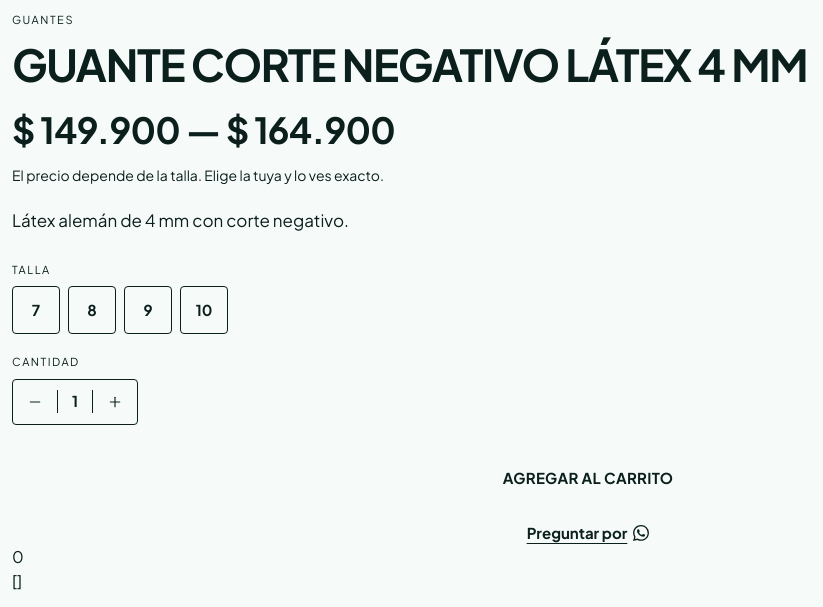
Test: ProductPurchase › cambiar de talla cambia el precio
Click the button "7". click: (36,310)
box: [12,286,60,334]
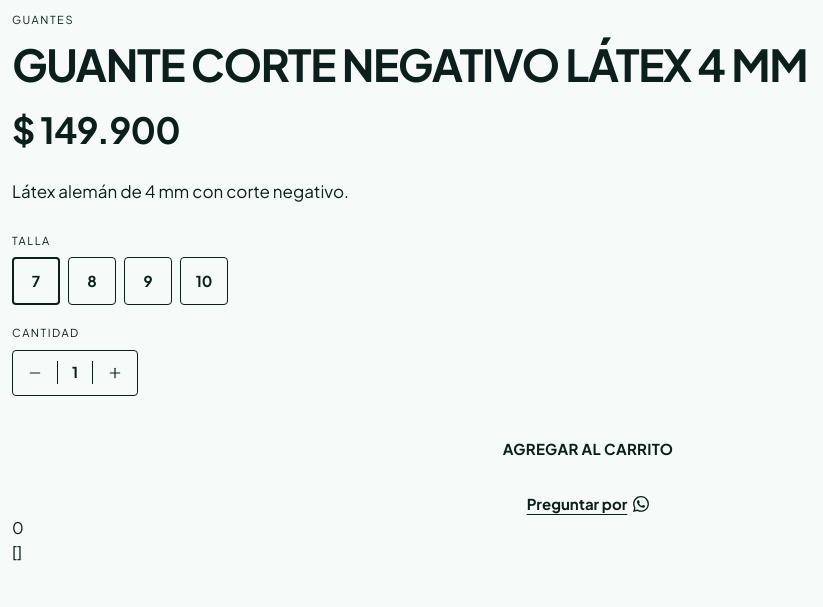
Expected: the text "$ 149.900" is shown, [12,107,180,152]
Click the button "10". click: (204,281)
box: [180,257,228,305]
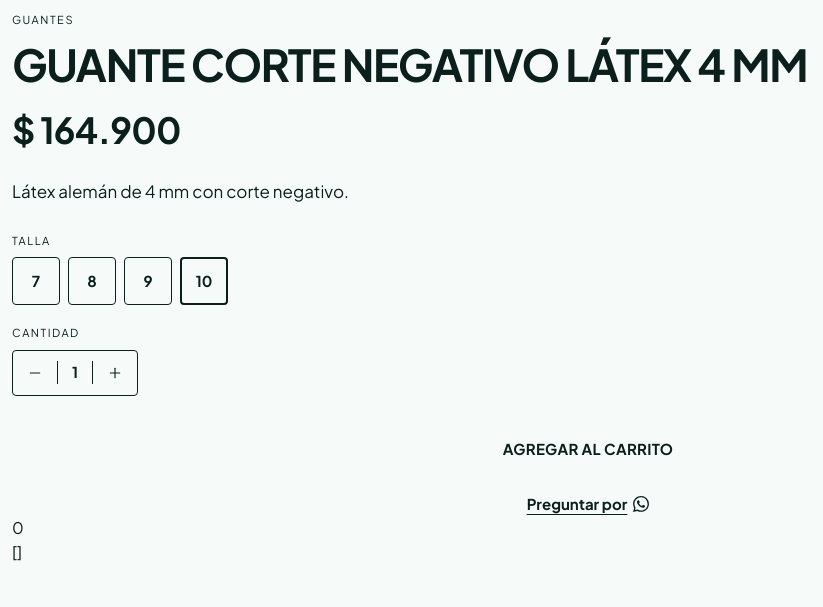
Expected: the text "$ 164.900" is shown, [12,107,181,152]
Expected: the text "$ 149.900" is gone
